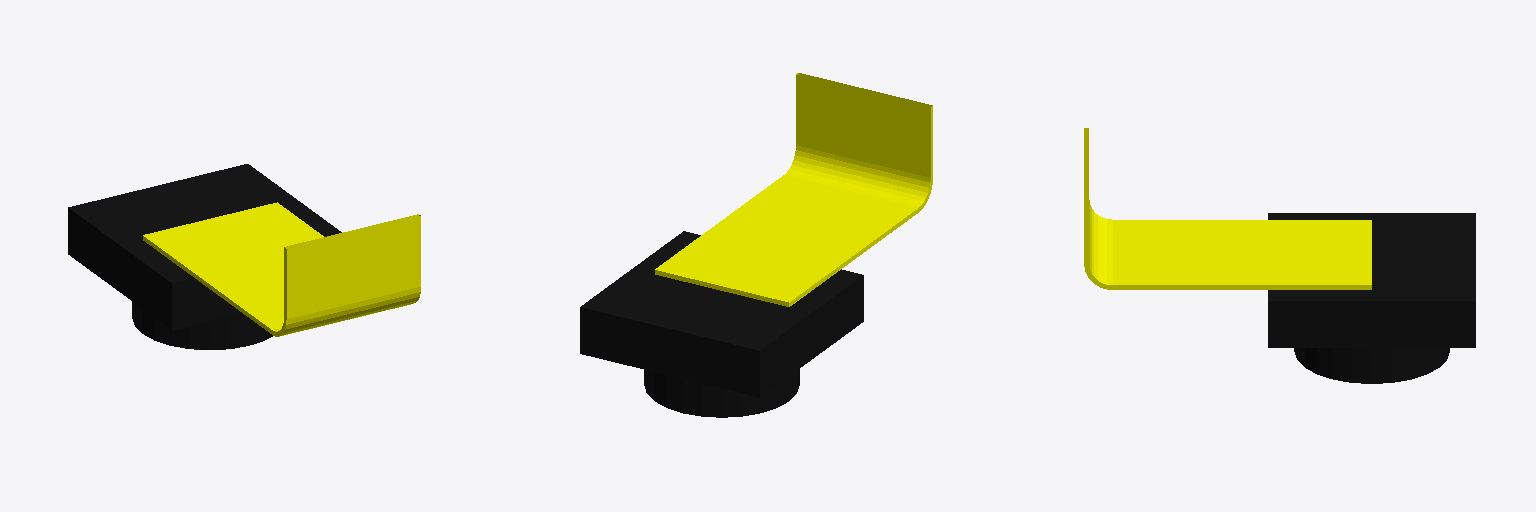
The model's file is colias_camera.obj.
3 views of the same model, side by side, from view 1: azimuth 30°, elevation 25°; view 2: azimuth 150°, elevation 25°; view 3: azimuth 270°, elevation 25° (orthographic).
Visible parts, largest first — view 1: sense board.fbx/RootNode001/RootNode001001/RootNode001001; view 2: sense board.fbx/RootNode001/RootNode001001/RootNode001001; view 3: sense board.fbx/RootNode001/RootNode001001/RootNode001001.
Boxes of the visible parts, box(x1,y1,x2,y2) form: sense board.fbx/RootNode001/RootNode001001/RootNode001001: box(68, 164, 420, 349); sense board.fbx/RootNode001/RootNode001001/RootNode001001: box(580, 73, 932, 417); sense board.fbx/RootNode001/RootNode001001/RootNode001001: box(1084, 128, 1475, 383).
Bounding box in the file's own units: 0.8 × 0.81 × 1.51.